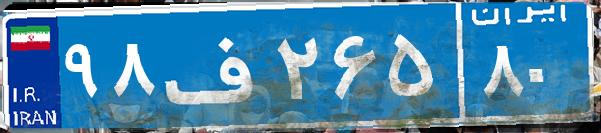0: (525, 38, 570, 115)
2: (273, 28, 330, 110)
5: (385, 28, 445, 110)
6: (330, 28, 385, 110)
8: (475, 38, 525, 113), (110, 28, 158, 105)
9: (57, 26, 110, 107)
ف: (158, 15, 273, 115)
